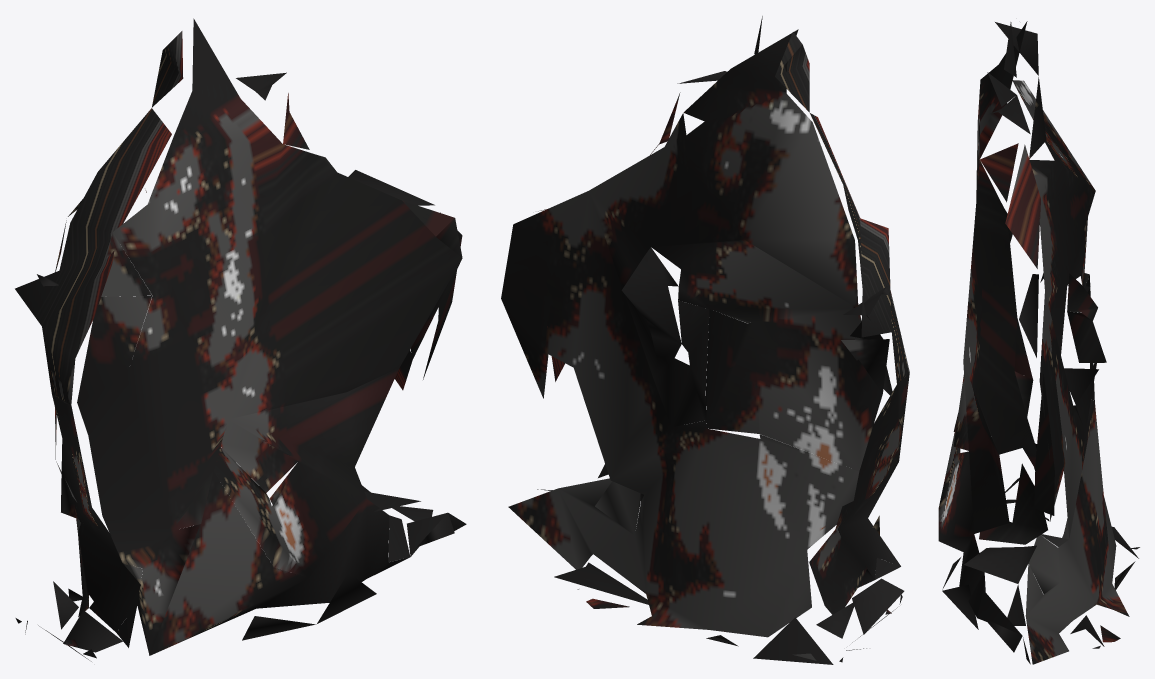
3 renders of one model, left to right at view 1: azimuth 30°, elevation 25°; view 2: azimuth 150°, elevation 25°; view 3: azimuth 270°, elevation 25°, orthographic. The views are drawn at different scales.
Parts seen in each view (by area): view 1: body.002; view 2: body.002; view 3: body.002.
Boxes of the visible parts, x1,y1,x2,y2 form: body.002: [15, 18, 466, 661]; body.002: [501, 16, 909, 664]; body.002: [938, 21, 1139, 664].
Size of the model in its own units: 1.42 by 2.02 by 0.6368.
1 material, 1 textured.
